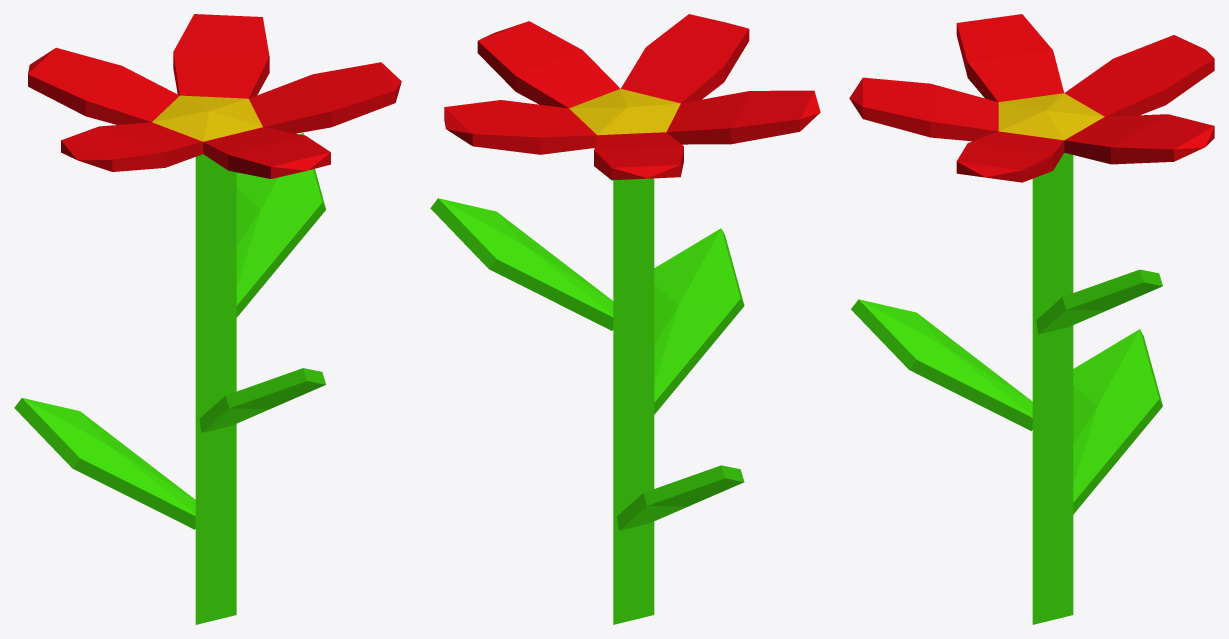
Rendered from flower.gltf.
3 renders of one model, left to right at view 1: azimuth 30°, elevation 25°; view 2: azimuth 150°, elevation 25°; view 3: azimuth 270°, elevation 25°, orthographic.
Visible parts, largest first — view 1: Sphere, Cylinder, Sphere.001, Sphere.003, Sphere.002; view 2: Sphere, Cylinder, Sphere.002, Sphere.001, Sphere.003; view 3: Sphere, Cylinder, Sphere.003, Sphere.002, Sphere.001.
Part boxes in pixels (x1,y1,x2,y2): Sphere: [28, 14, 401, 178]; Cylinder: [195, 154, 236, 624]; Sphere.001: [236, 133, 326, 317]; Sphere.003: [14, 398, 195, 529]; Sphere.002: [199, 368, 325, 432]; Sphere: [444, 14, 820, 180]; Cylinder: [613, 178, 654, 624]; Sphere.002: [654, 228, 744, 414]; Sphere.001: [430, 198, 613, 330]; Sphere.003: [617, 465, 744, 530]; Sphere: [849, 14, 1214, 182]; Cylinder: [1032, 153, 1073, 624]; Sphere.003: [1073, 329, 1162, 514]; Sphere.002: [851, 299, 1032, 430]; Sphere.001: [1036, 269, 1162, 334].
Bounding box in the file's own units: 2.76 × 4.25 × 2.69.
